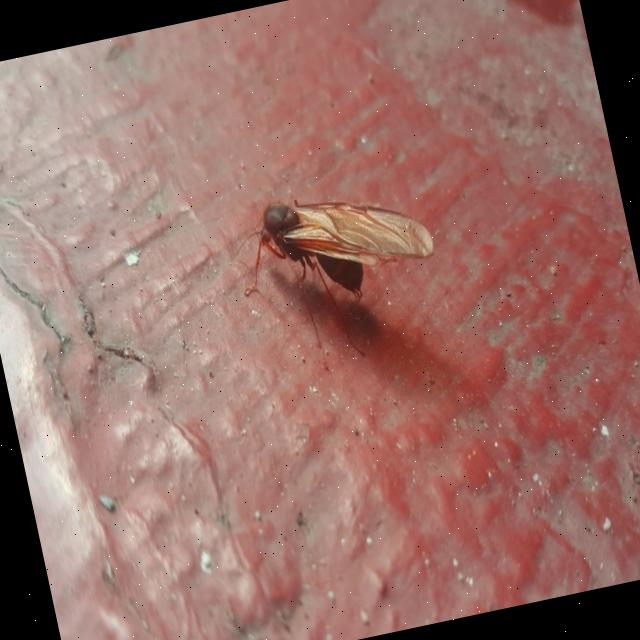Alive-Male-Alate: (226, 172, 454, 384)
